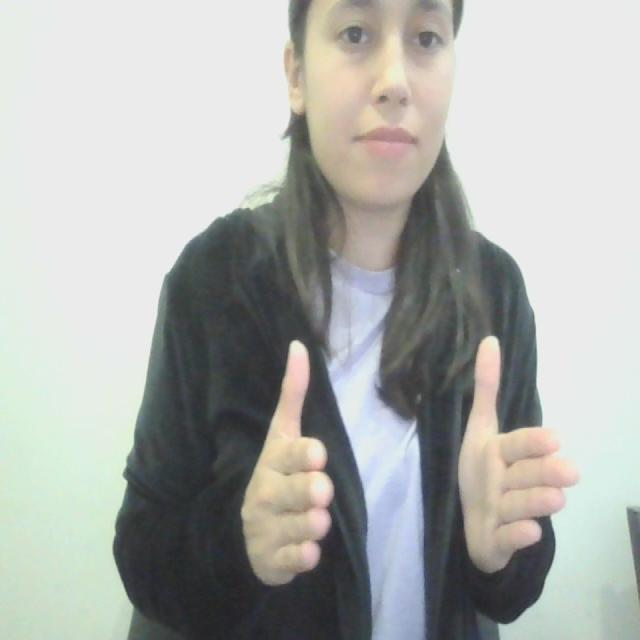Nasil: (230, 305, 597, 607)
